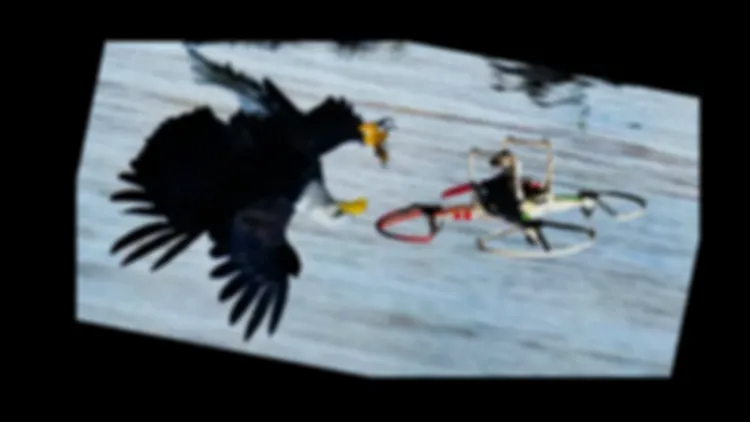Bird: (108, 37, 398, 342)
UAV: (378, 110, 650, 273)
